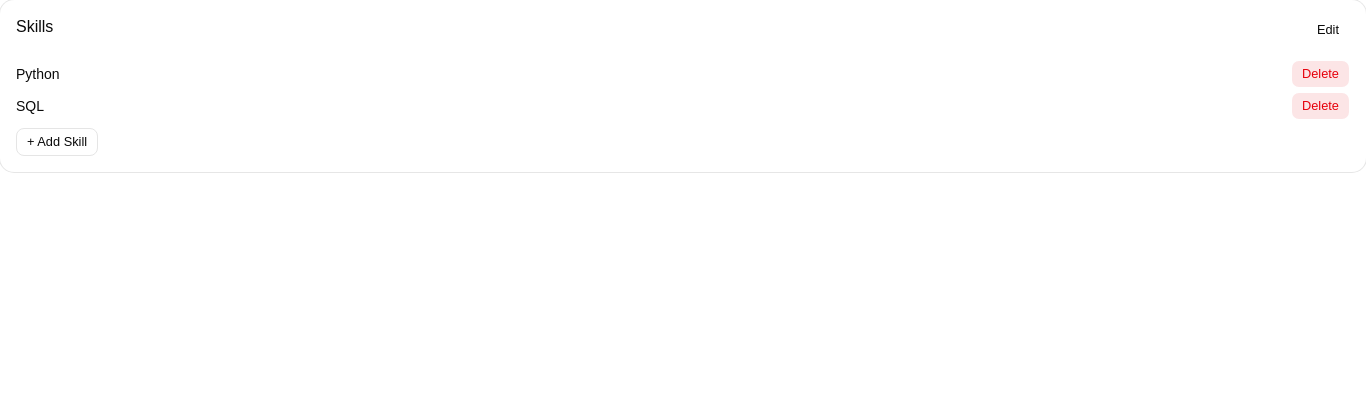
Test: EntitySection › clicking Edit turns every row into editable fields at once
Click the button "Edit" at (1328, 30), box left=1306, top=16, right=1350, bottom=44
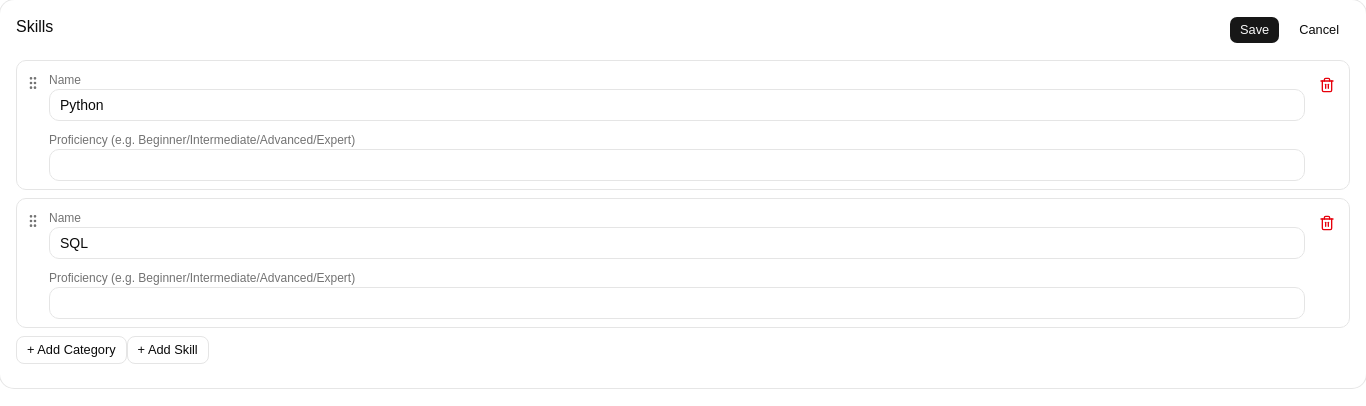
Expected: the number of fields labelled "Name" is 2, left=49, top=89, right=1305, bottom=121; left=49, top=227, right=1305, bottom=259
Expected: the 1st field labelled "Name" holds "Python", left=49, top=89, right=1305, bottom=121
Expected: the 2nd field labelled "Name" holds "SQL", left=49, top=227, right=1305, bottom=259
